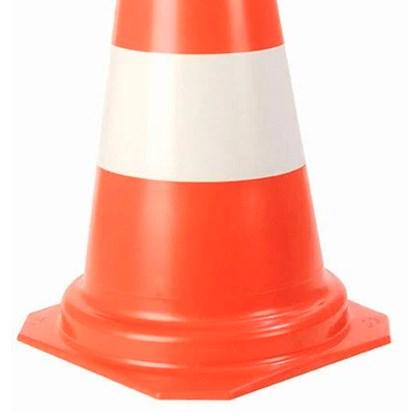traffic_cone: (16, 0, 392, 401)
